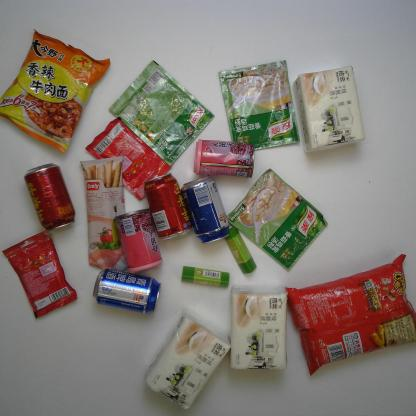Alcohol: (178, 176, 232, 243), (91, 267, 162, 314)
Candy: (84, 118, 172, 202), (2, 231, 78, 319)
Canned Food: (113, 208, 163, 274), (192, 139, 256, 177)
Dessert: (78, 156, 130, 272)
Drink: (23, 162, 76, 231), (140, 172, 193, 240)
Instant Noodles: (0, 28, 112, 155)
Puffed Food: (285, 253, 416, 376)
Seasoner: (108, 59, 216, 166), (226, 168, 328, 272), (216, 59, 301, 152)
Stationery: (225, 224, 257, 275), (181, 266, 230, 289)
Tissue: (144, 312, 230, 410), (293, 64, 367, 153), (228, 284, 291, 372)
